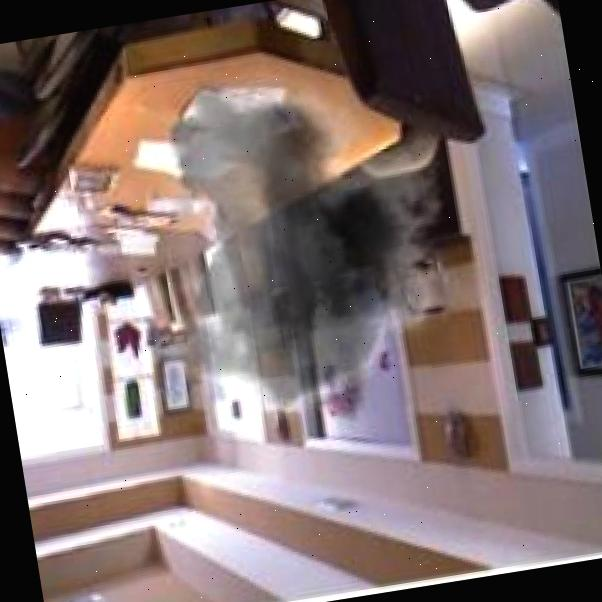smoke: (60, 38, 498, 469)
